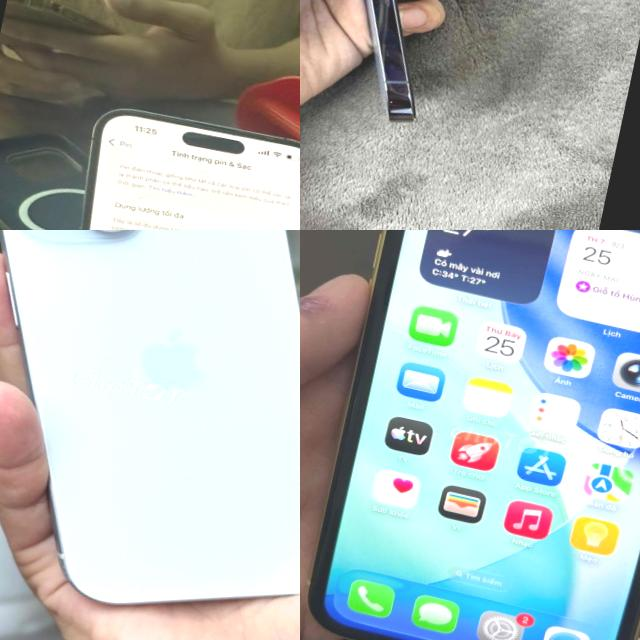physical_damage: (223, 126, 293, 178), (177, 148, 240, 200), (122, 169, 180, 213), (85, 190, 128, 230)
